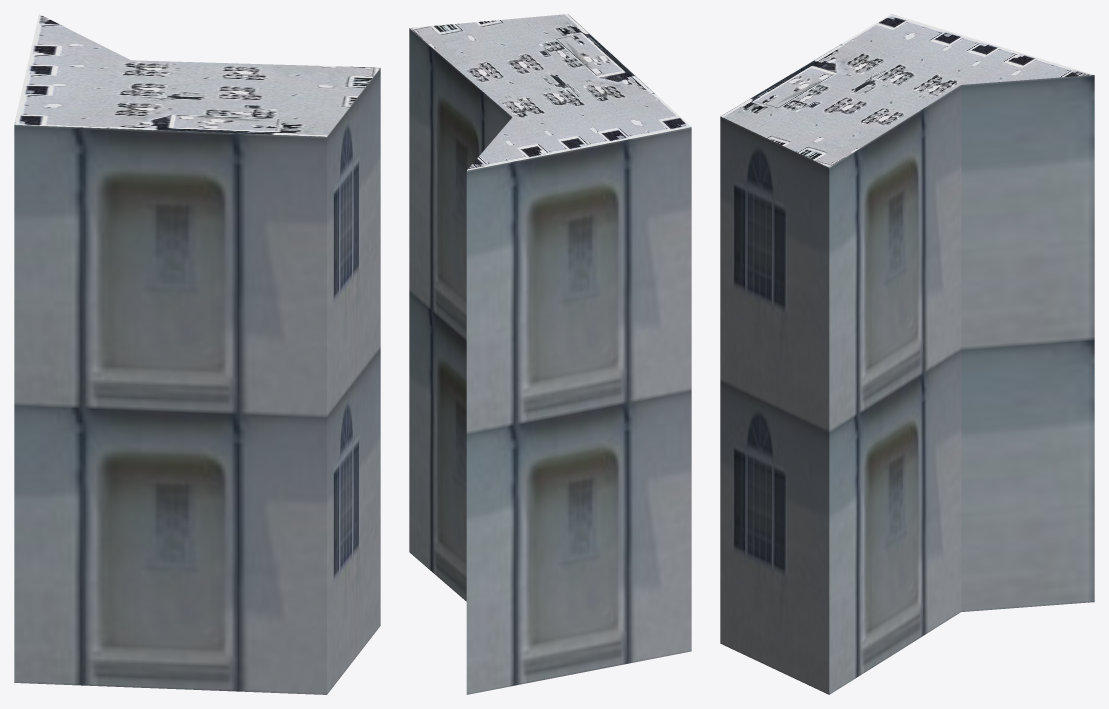
Rendered from ResTex__3842.fbx.
3 views of the same model, side by side, from view 1: azimuth 30°, elevation 25°; view 2: azimuth 150°, elevation 25°; view 3: azimuth 270°, elevation 25° (orthographic). The views are drawn at different scales.
Visible parts, largest first — view 1: CityEngineMaterial_17_m, CityEngineMaterial_2_m; view 2: CityEngineMaterial_17_m, CityEngineMaterial_2_m; view 3: CityEngineMaterial_17_m, CityEngineMaterial_2_m.
Part boxes in pixels (x1=…): CityEngineMaterial_17_m: x1=14, y1=68, x2=380, y2=694; CityEngineMaterial_2_m: x1=14, y1=14, x2=380, y2=136; CityEngineMaterial_17_m: x1=409, y1=28, x2=691, y2=694; CityEngineMaterial_2_m: x1=409, y1=14, x2=691, y2=170; CityEngineMaterial_17_m: x1=720, y1=75, x2=1094, y2=694; CityEngineMaterial_2_m: x1=721, y1=14, x2=1093, y2=167.
Bounding box in the file's own units: 3.75 × 6 × 3.86.
2 materials, 2 textured.
